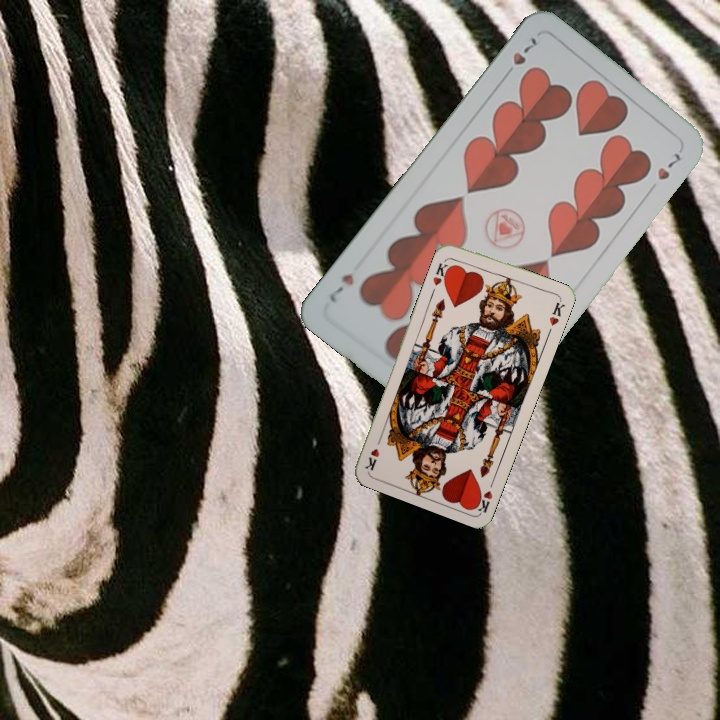H7: (499, 33, 540, 81)
HK: (471, 474, 497, 515), (429, 255, 454, 288)
